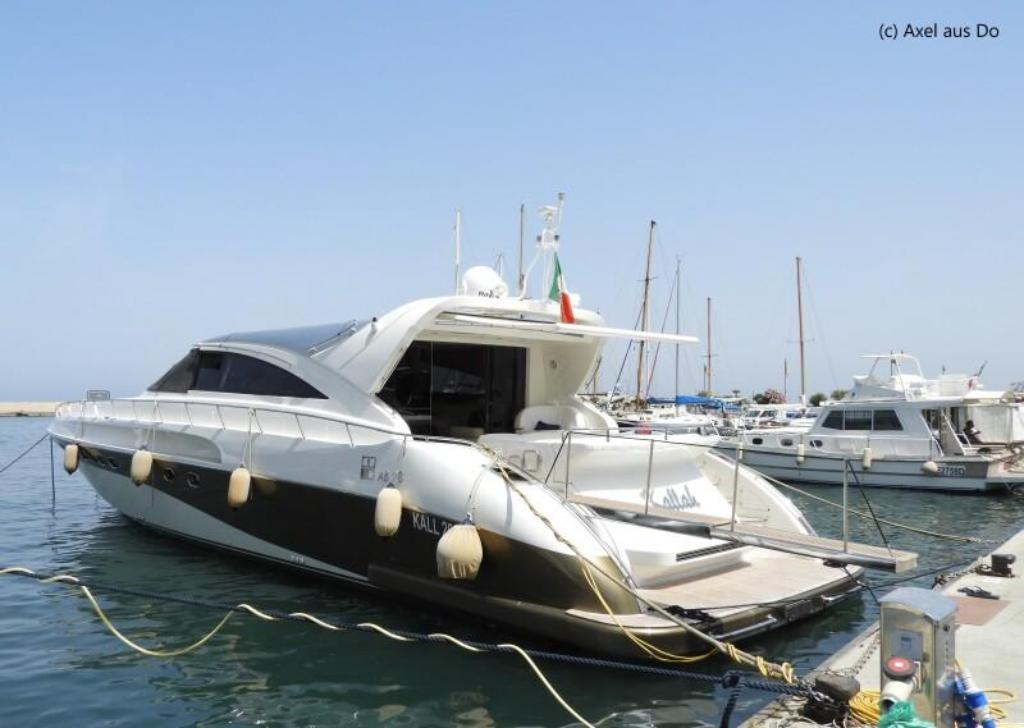PassengerShip: (42, 184, 924, 678), (692, 348, 1024, 508)
